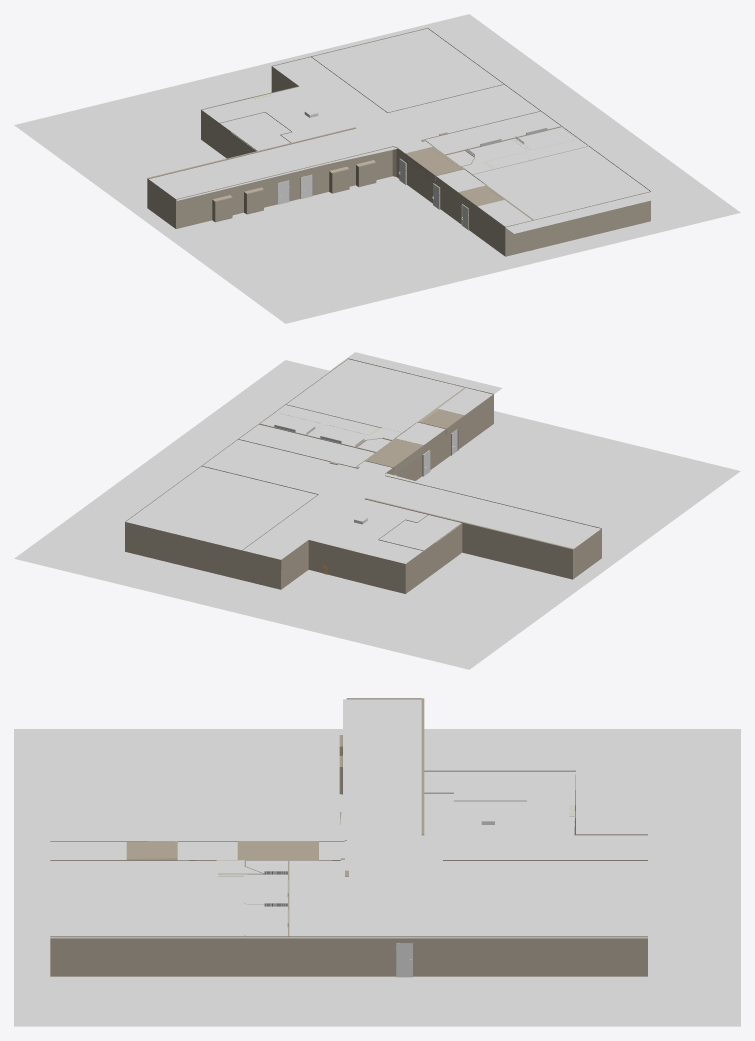
Rendered from Cattleya.fbx.
3 renders of one model, top to bottom at view 1: azimuth 30°, elevation 25°; view 2: azimuth 150°, elevation 25°; view 3: azimuth 270°, elevation 25°, orthographic. The views are drawn at different scales.
Parts seen in each view (by area): view 1: Plane.016, Plane.001, Plane; view 2: Plane.016, Plane.001, Plane; view 3: Plane.016, Plane.001, Plane, Cylinder.012.
Part boxes in pixels (x1,y1,x2,y2): Plane.016: (14, 14, 740, 323); Plane.001: (149, 28, 661, 233); Plane: (147, 28, 650, 256); Plane.016: (14, 360, 740, 669); Plane.001: (123, 352, 602, 563); Plane: (125, 358, 601, 593); Plane.016: (14, 729, 740, 1026); Plane.001: (26, 699, 647, 938); Plane: (50, 698, 647, 976); Cylinder.012: (396, 943, 412, 977).
Size of the model in its own units: 12235 by 1043 by 12635.
